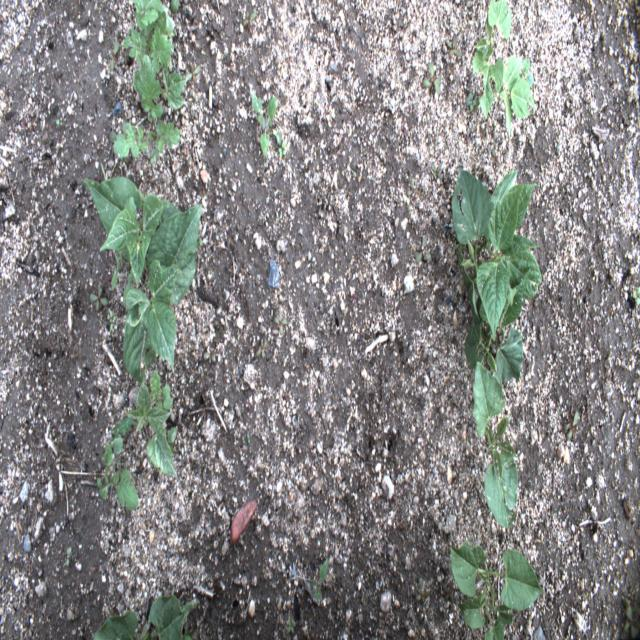crop: (81, 174, 200, 374), (451, 158, 541, 392), (450, 542, 547, 636), (474, 353, 521, 534), (114, 352, 178, 478), (90, 594, 200, 639)
weed: (114, 2, 190, 165), (472, 0, 536, 136), (280, 554, 335, 636), (96, 440, 140, 510), (246, 83, 284, 162), (86, 283, 109, 316), (421, 57, 444, 89), (461, 89, 485, 115)
